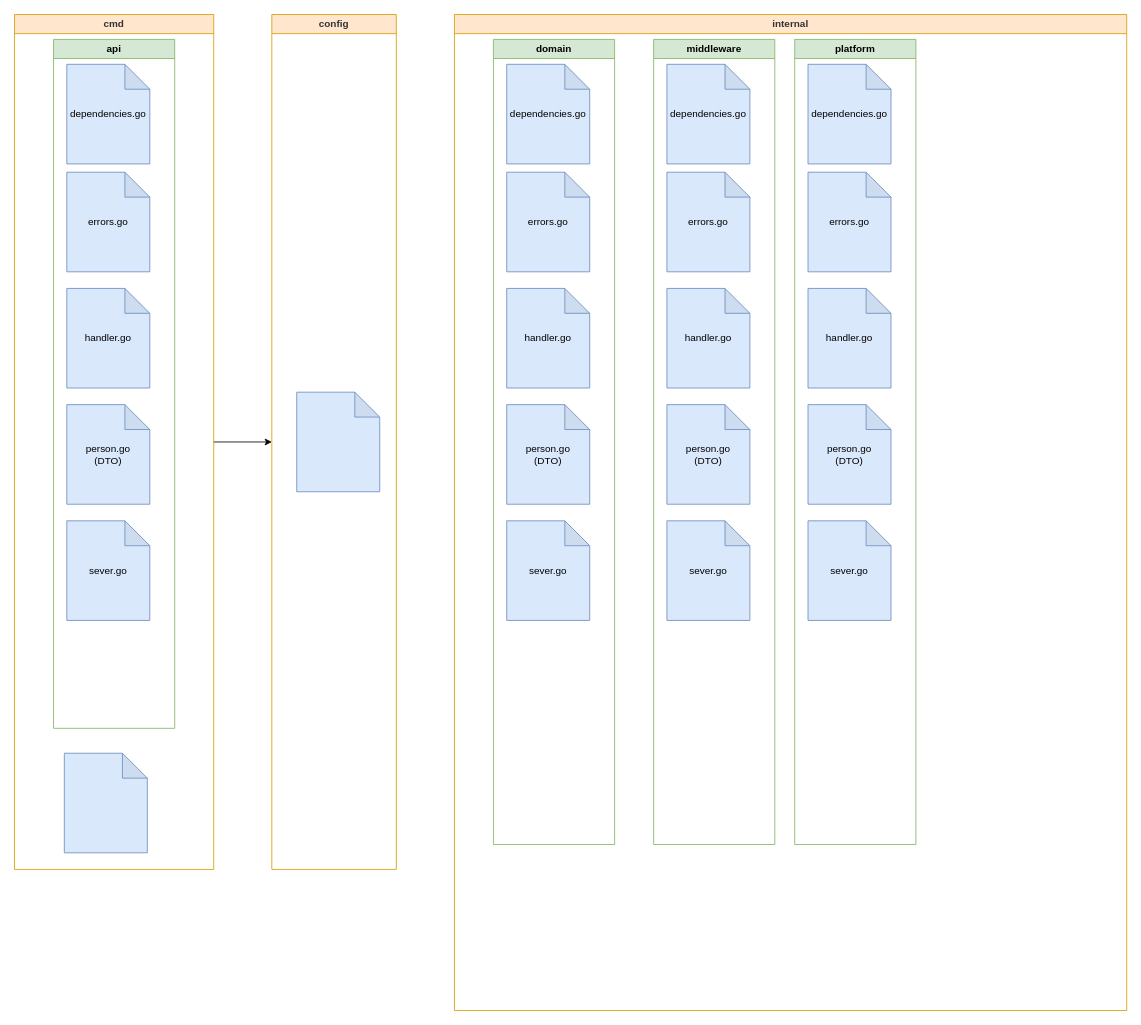
Image size: 1141x1025. Some labels were removed from this diagram. The centre of each missing label's shape, as x and y in pixels:
"config.go" belongs at (338,441).
"main.go" belongs at (105,802).
